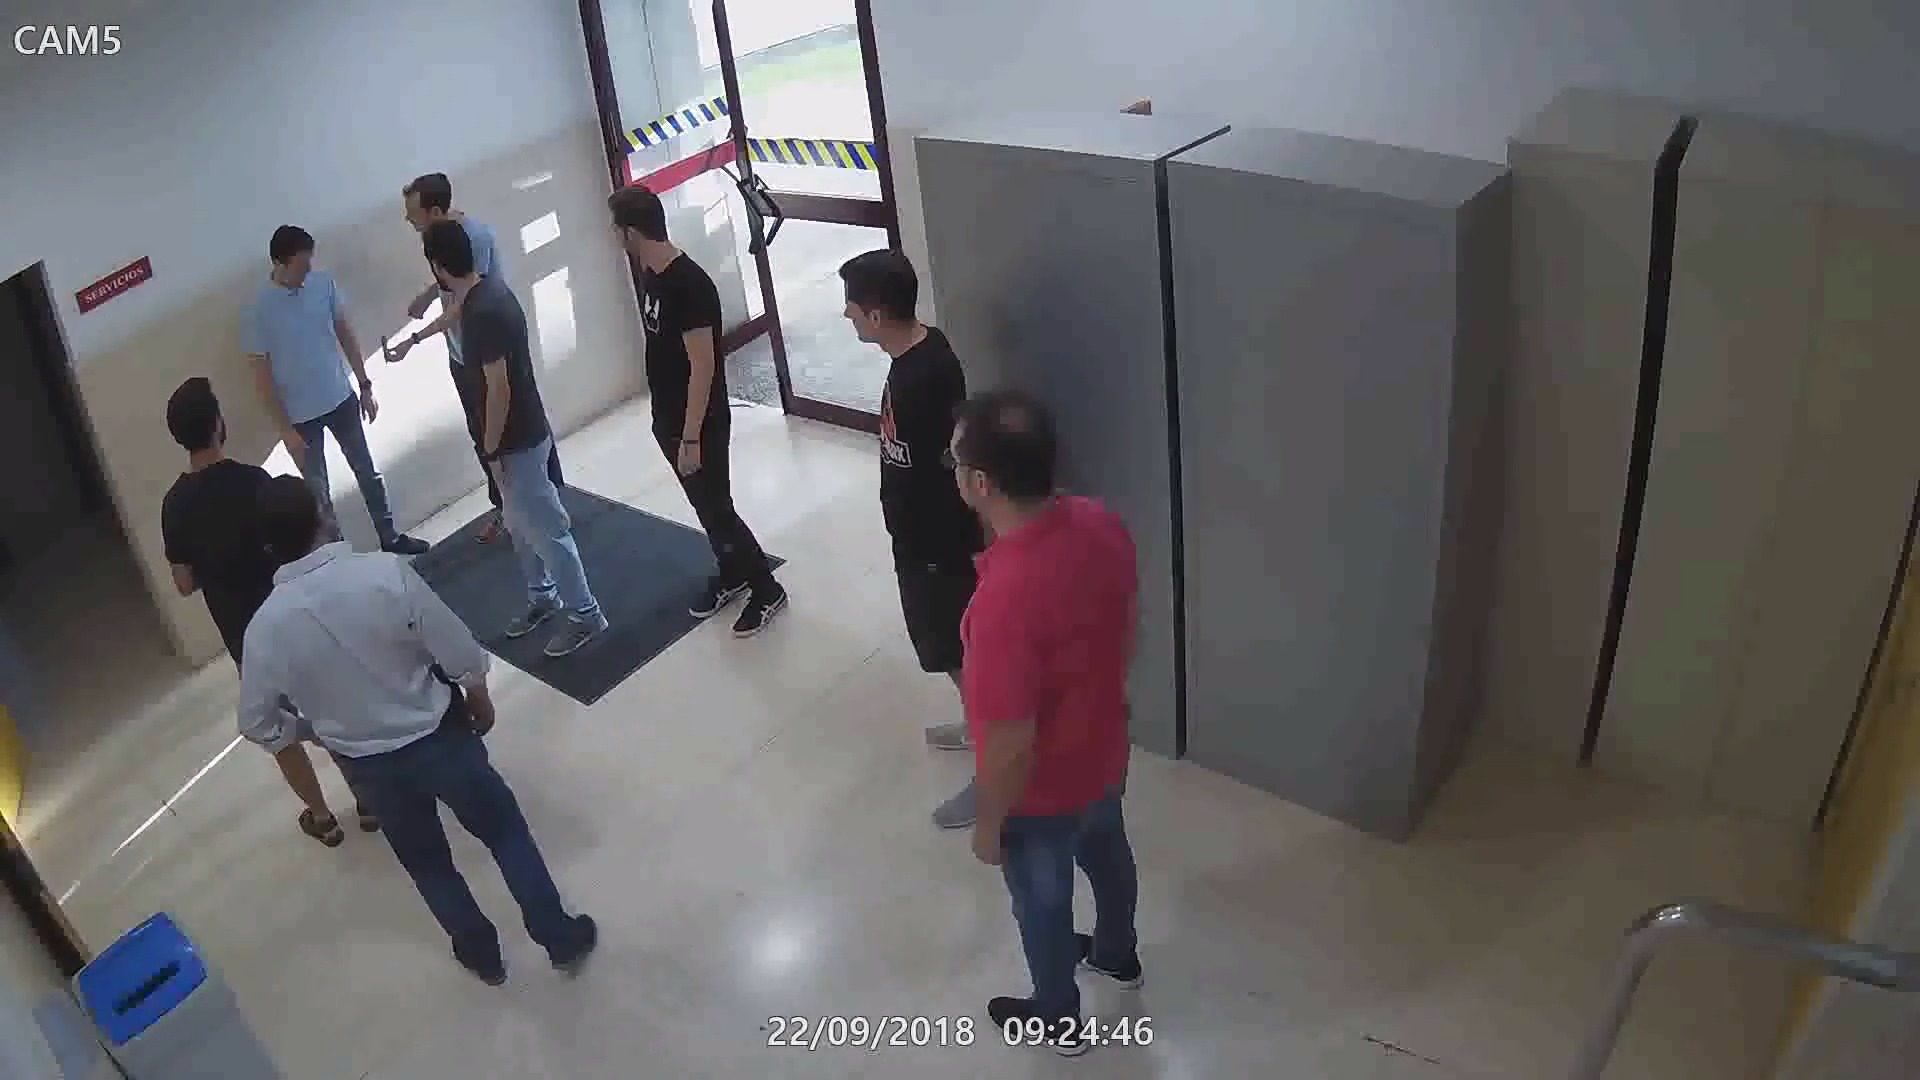Handgun: (431, 659, 473, 720)
Knife: (375, 331, 425, 367)
